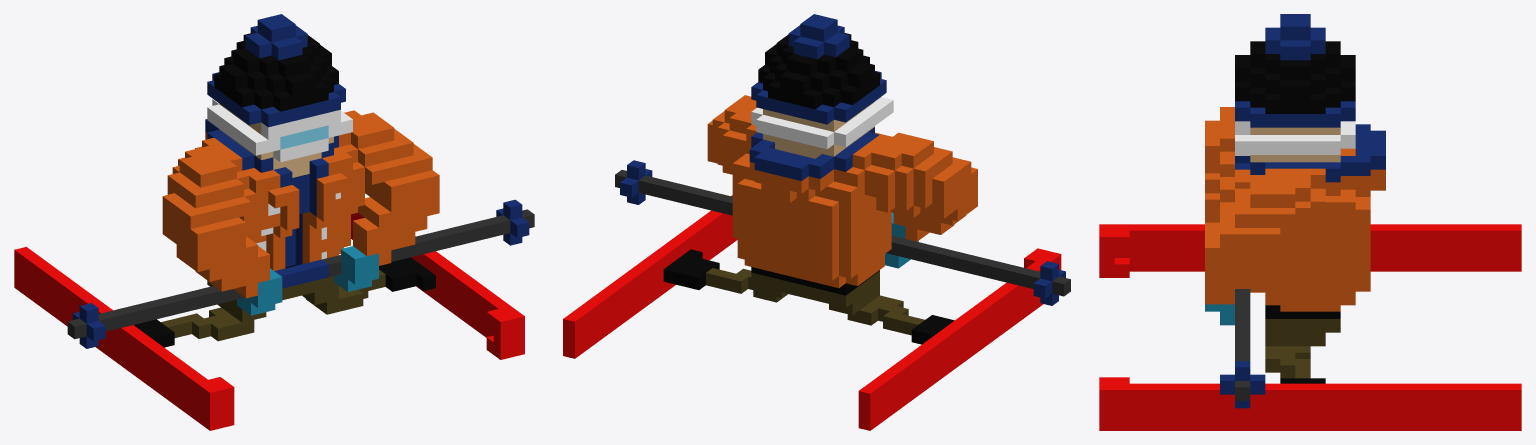
Rendered from Saut_6_Frame_01.obj.
3 renders of one model, left to right at view 1: azimuth 30°, elevation 25°; view 2: azimuth 150°, elevation 25°; view 3: azimuth 270°, elevation 25°, orthographic. The views are drawn at different scales.
Bounding box in the file's own units: 38 × 24 × 28.
Materials: 1 (1 with a texture image).
